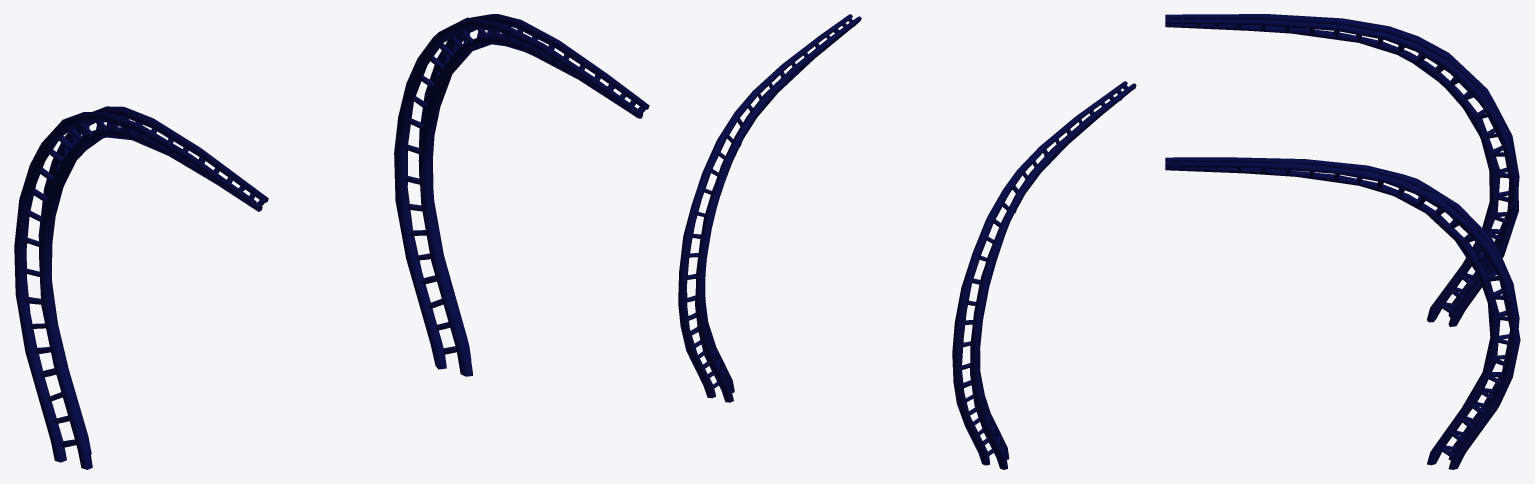
The model's file is Al_Nasar_Football_Stadium_NurbsPath_002.FBX.
The picture shows the model from 3 angles, left to right: view 1: azimuth 30°, elevation 25°; view 2: azimuth 150°, elevation 25°; view 3: azimuth 270°, elevation 25°; orthographic projection. The views are drawn at different scales.
Parts seen in each view (by area): view 1: Al_Nasar_Football_Stadium_NurbsPath_002; view 2: Al_Nasar_Football_Stadium_NurbsPath_002; view 3: Al_Nasar_Football_Stadium_NurbsPath_002.
Boxes of the visible parts, left/top/right/bottom form: Al_Nasar_Football_Stadium_NurbsPath_002: left=14, top=14, right=649, bottom=469; Al_Nasar_Football_Stadium_NurbsPath_002: left=678, top=14, right=1136, bottom=469; Al_Nasar_Football_Stadium_NurbsPath_002: left=1165, top=14, right=1520, bottom=469.
Size of the model in its own units: 4269 by 4098 by 3868.
